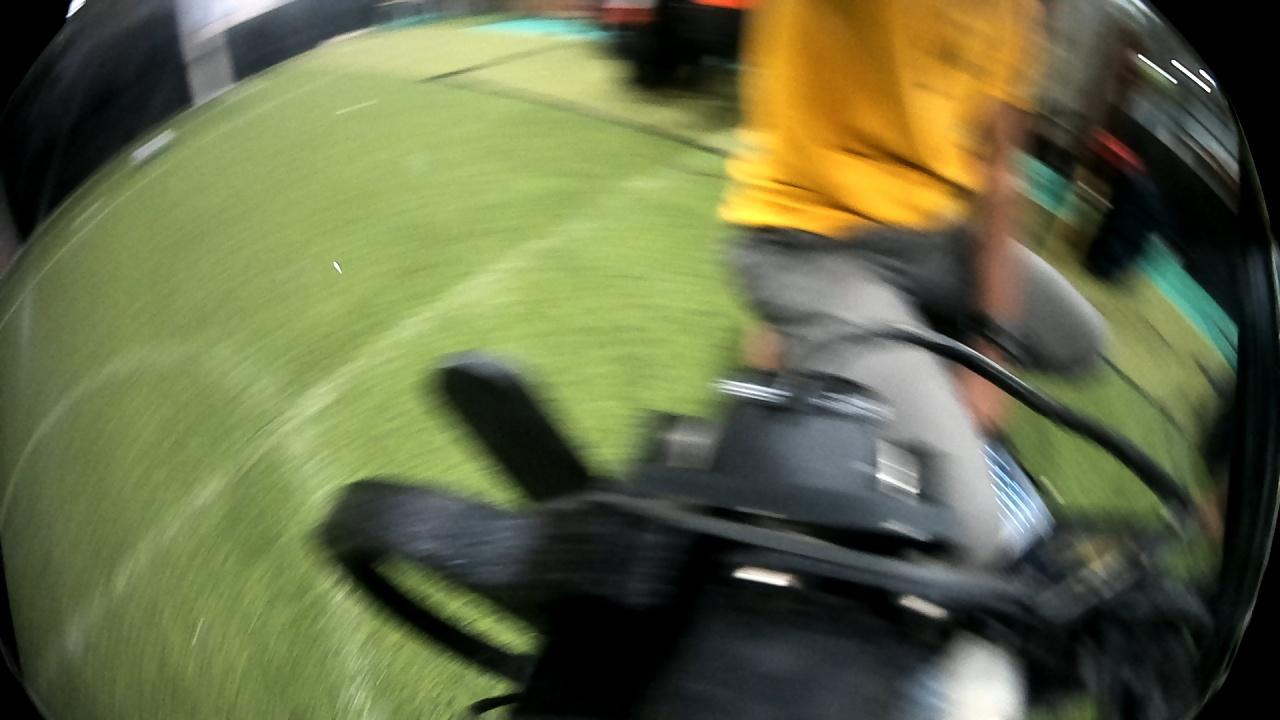ball: (126, 124, 181, 164)
